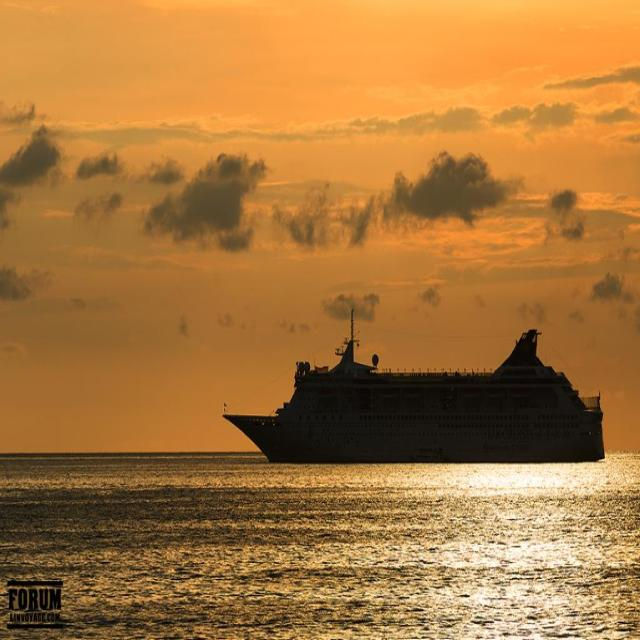Boat: (218, 304, 606, 466)
